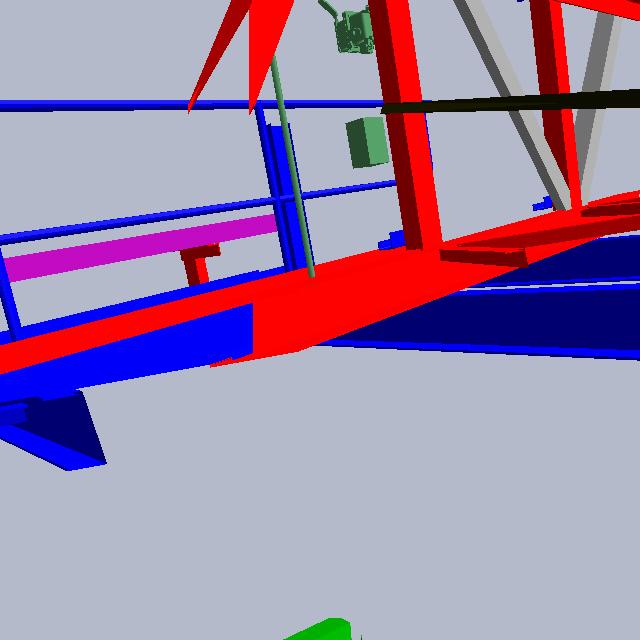Poste: (259, 33, 318, 284)
Soporte: (234, 94, 338, 292)
